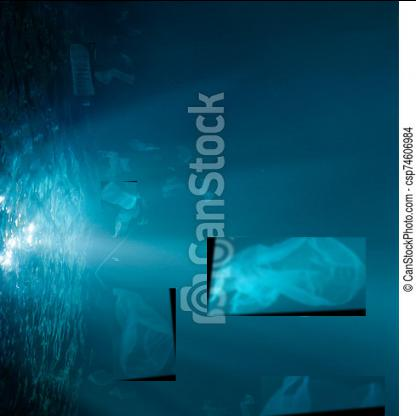bottle: (70, 41, 96, 106)
plastic-bag: (207, 235, 367, 315), (113, 286, 177, 380), (260, 374, 387, 415)
waste: (102, 179, 140, 208)
